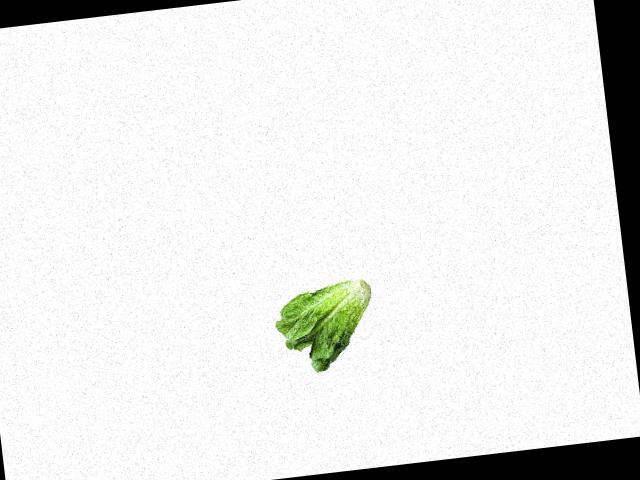lettuce: (271, 273, 377, 381)
